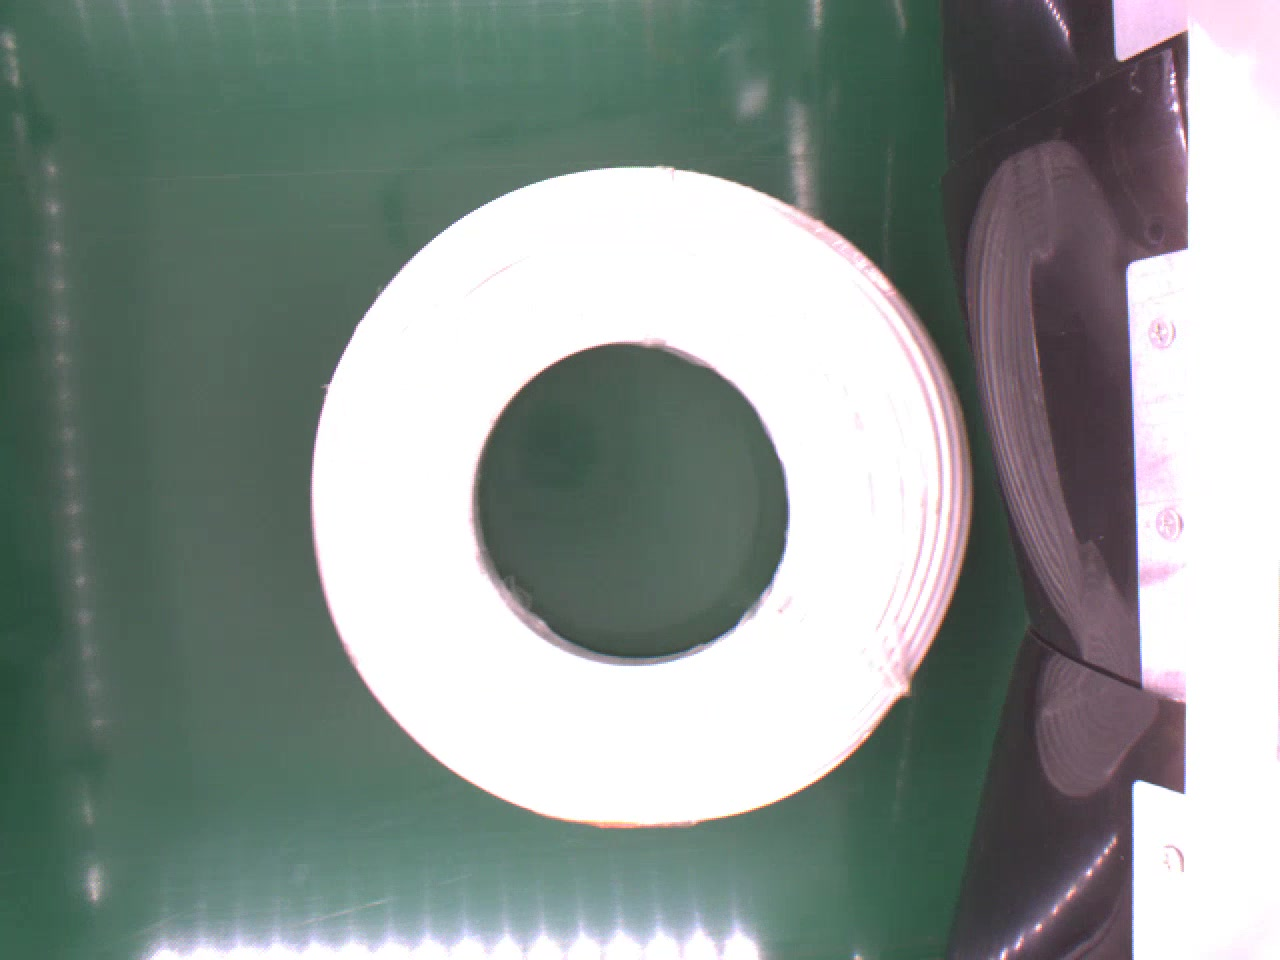white: (293, 162, 974, 835)
